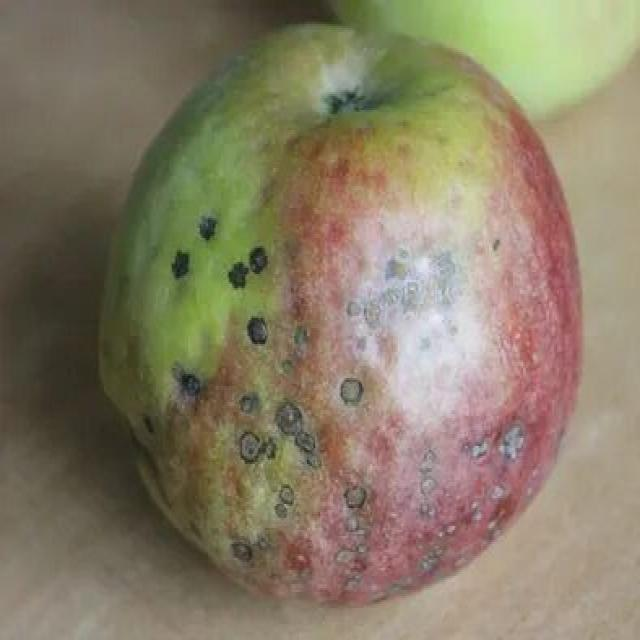Rotten Apple: (108, 24, 586, 598)
